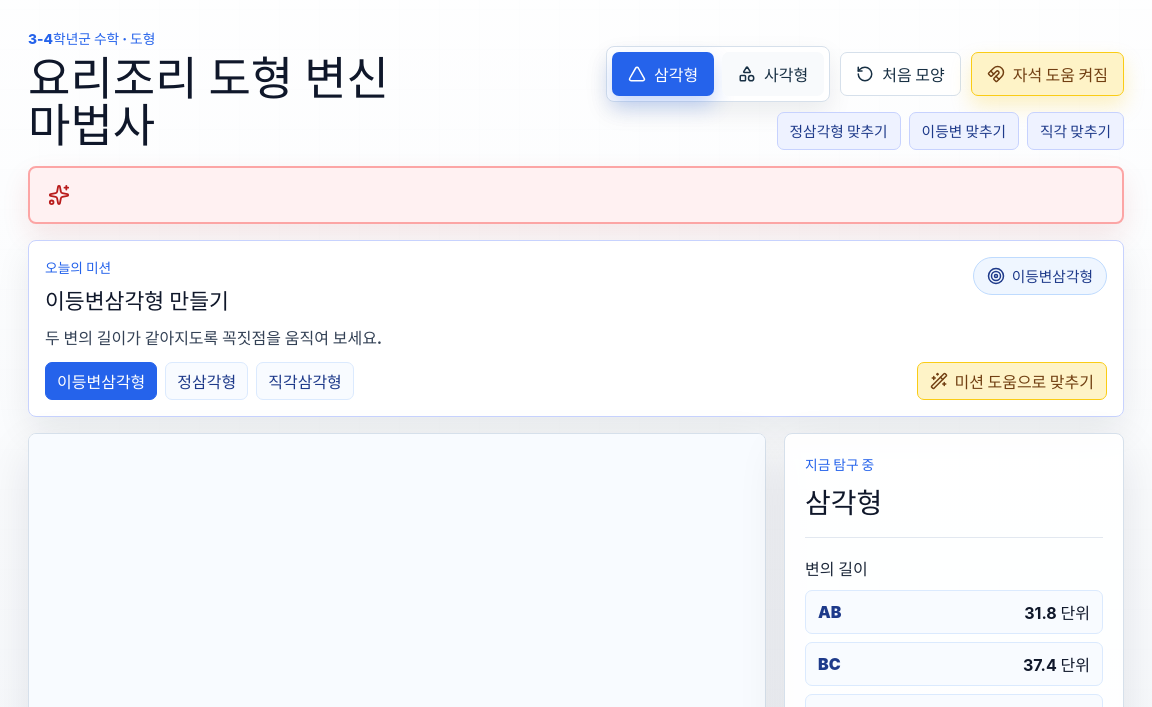
Test case: App › shows the celebration only while the current shape still matches
Click the button "사각형" at (773, 74), box [722,52,824,96]
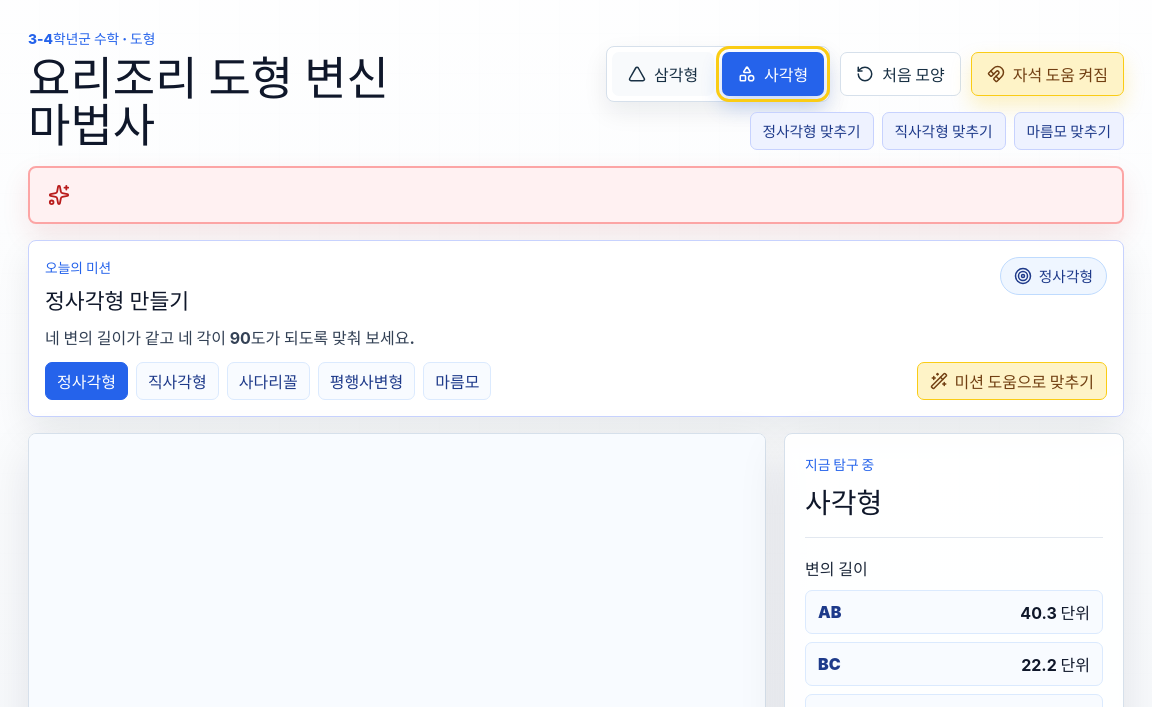
Click the button "정사각형 맞추기" at (812, 131), box [750,112,874,150]
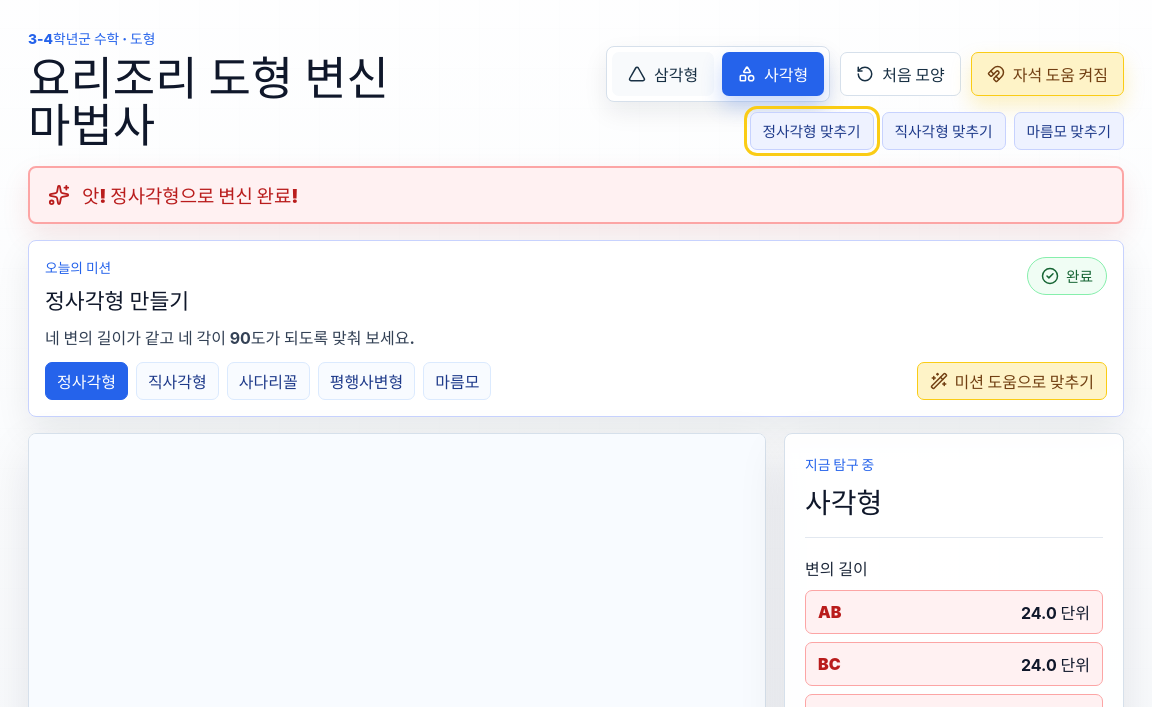
Expected: the text "앗! 정사각형으로 변신 완료!" is shown, [82,181,298,208]
Click the button "처음 모양" at (900, 74), box [840,52,961,96]
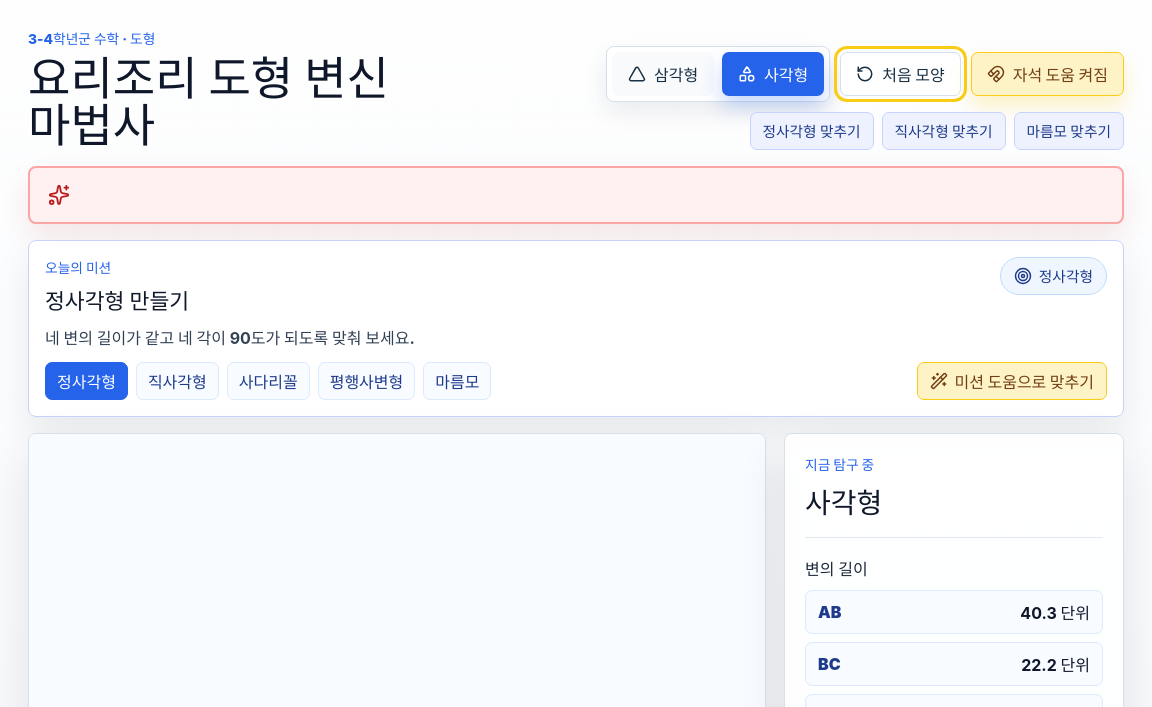
Expected: the message named "도형 변신 알림" is shown, [28,166,1124,224]
Expected: the text "앗! 정사각형으로 변신 완료!" is gone
